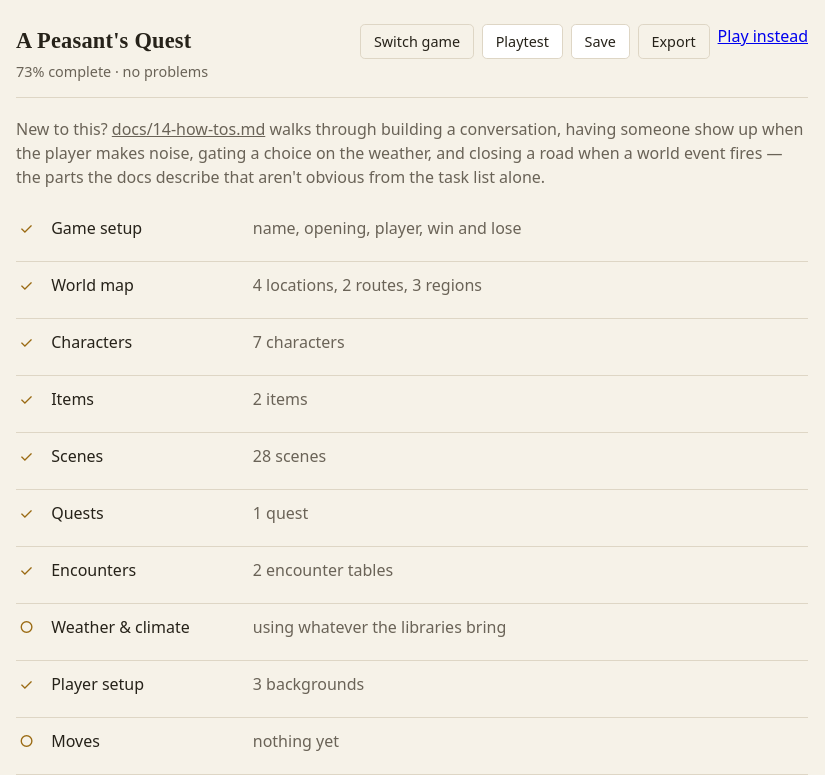
Test case: a section › makes a new one from as little as its name
Check: the heading "A Peasant's Quest" is shown, box left=16, top=24, right=208, bottom=58
Click the button "✓ World map 4 locations, 2 routes, 3 regions" at (412, 290), box left=16, top=262, right=808, bottom=318
(page scrolled)
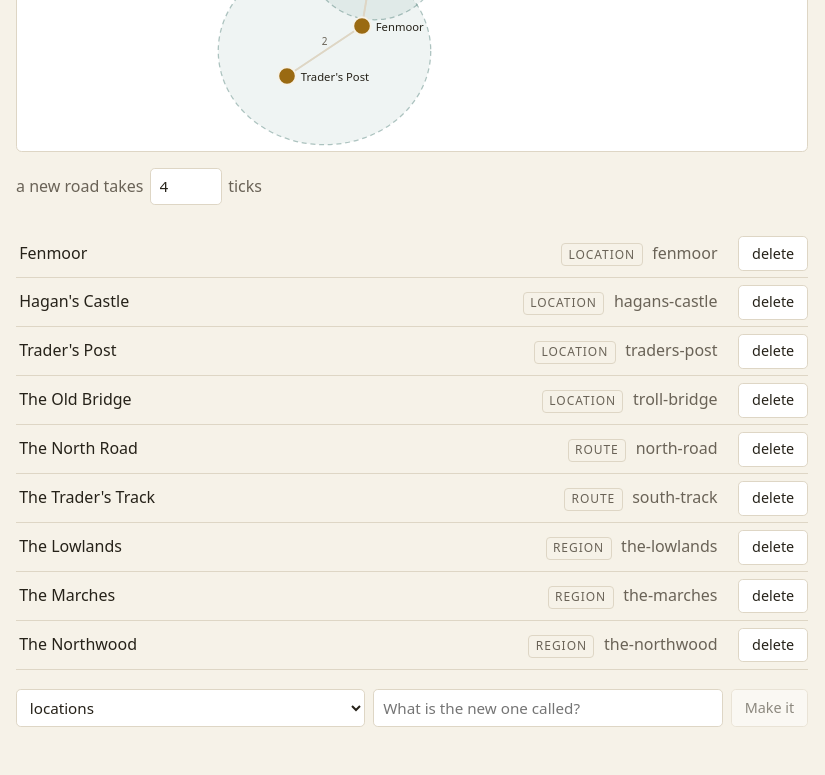
Type "The Long Moor" into the field labelled "What is the new one called?" at (548, 708), box left=373, top=689, right=723, bottom=727
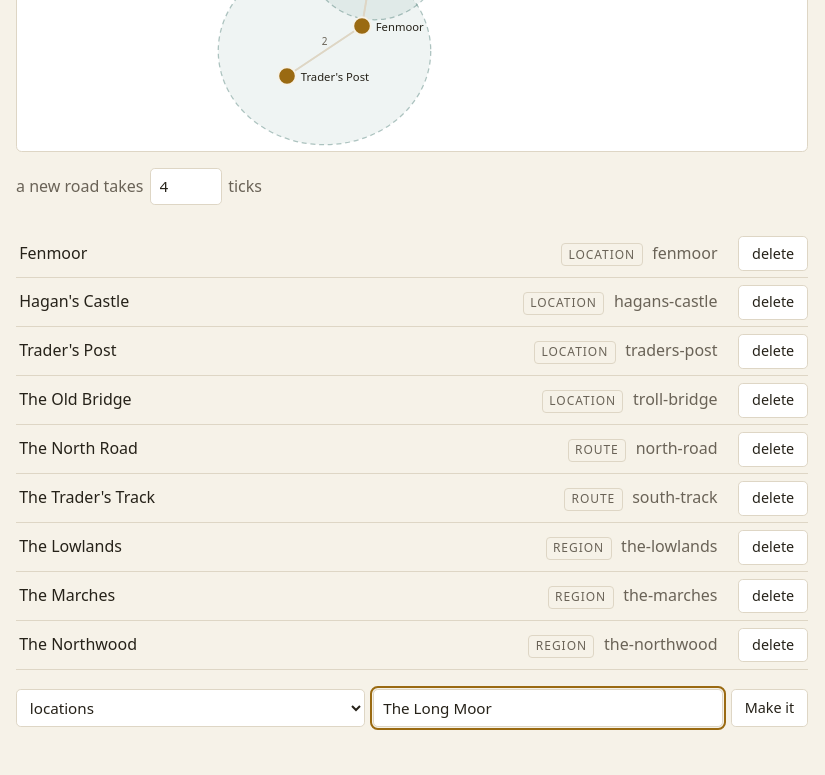
Click the button "Make it" at (769, 708), box left=731, top=689, right=808, bottom=727
(page scrolled)
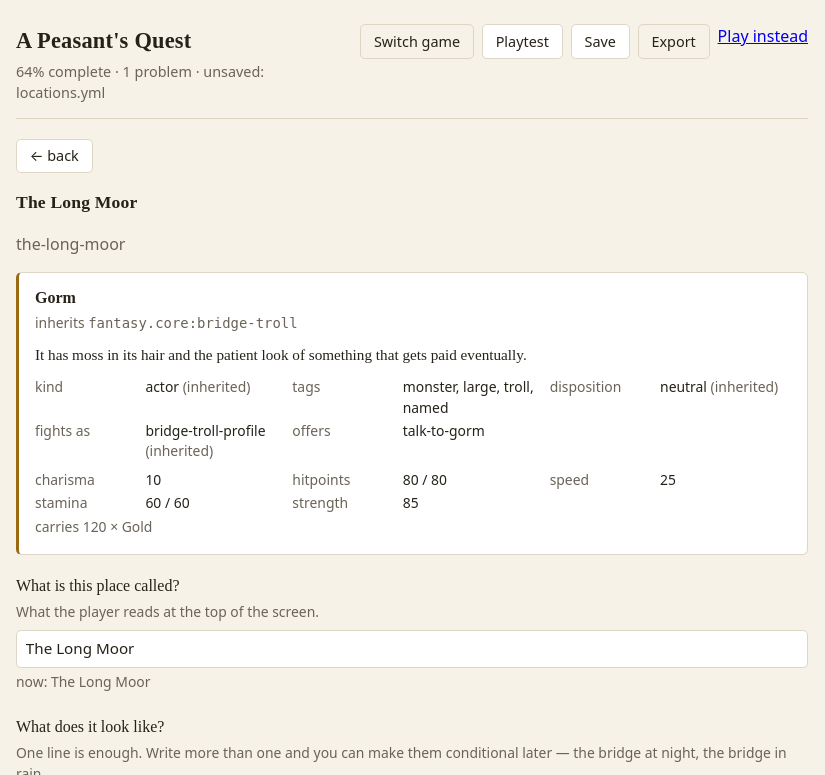
Check: the heading "The Long Moor" is shown, box left=16, top=192, right=138, bottom=212
